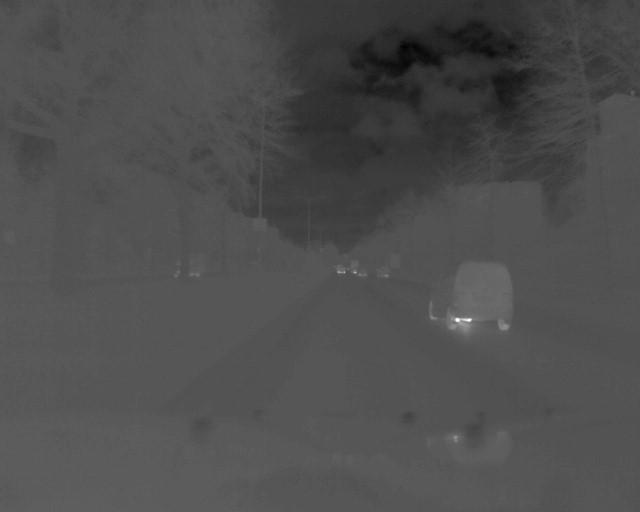car: (426, 260, 517, 335), (173, 253, 207, 277), (335, 263, 347, 275), (356, 269, 368, 279)
